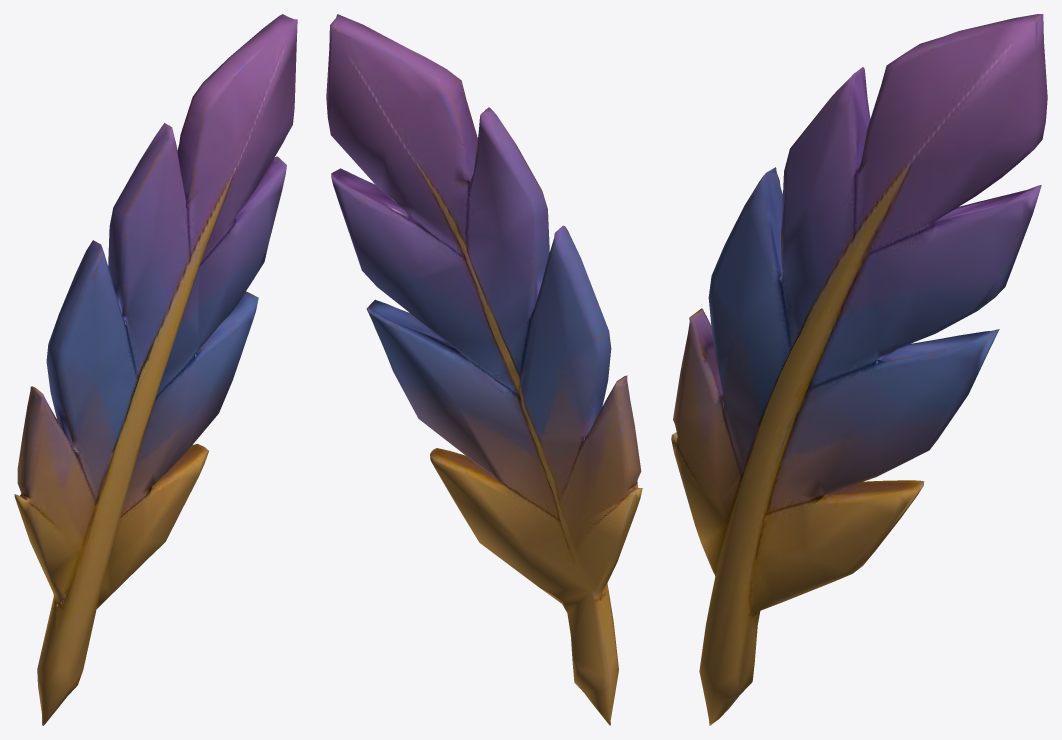
Rendered from lisc.glb.
3 renders of one model, left to right at view 1: azimuth 30°, elevation 25°; view 2: azimuth 150°, elevation 25°; view 3: azimuth 330°, elevation 25°, orthographic. The views are drawn at different scales.
Visible parts, largest first — view 1: tripo_node_07d2967d-9c3e-4423-b5ef-89c811874c28; view 2: tripo_node_07d2967d-9c3e-4423-b5ef-89c811874c28; view 3: tripo_node_07d2967d-9c3e-4423-b5ef-89c811874c28.
Part boxes in pixels (x1,y1,x2,y2): tripo_node_07d2967d-9c3e-4423-b5ef-89c811874c28: [14, 14, 297, 725]; tripo_node_07d2967d-9c3e-4423-b5ef-89c811874c28: [326, 14, 642, 725]; tripo_node_07d2967d-9c3e-4423-b5ef-89c811874c28: [671, 14, 1047, 725].
Bounding box in the file's own units: 0.4702 × 0.9957 × 0.1174.
Materials: 1 (1 with a texture image).
